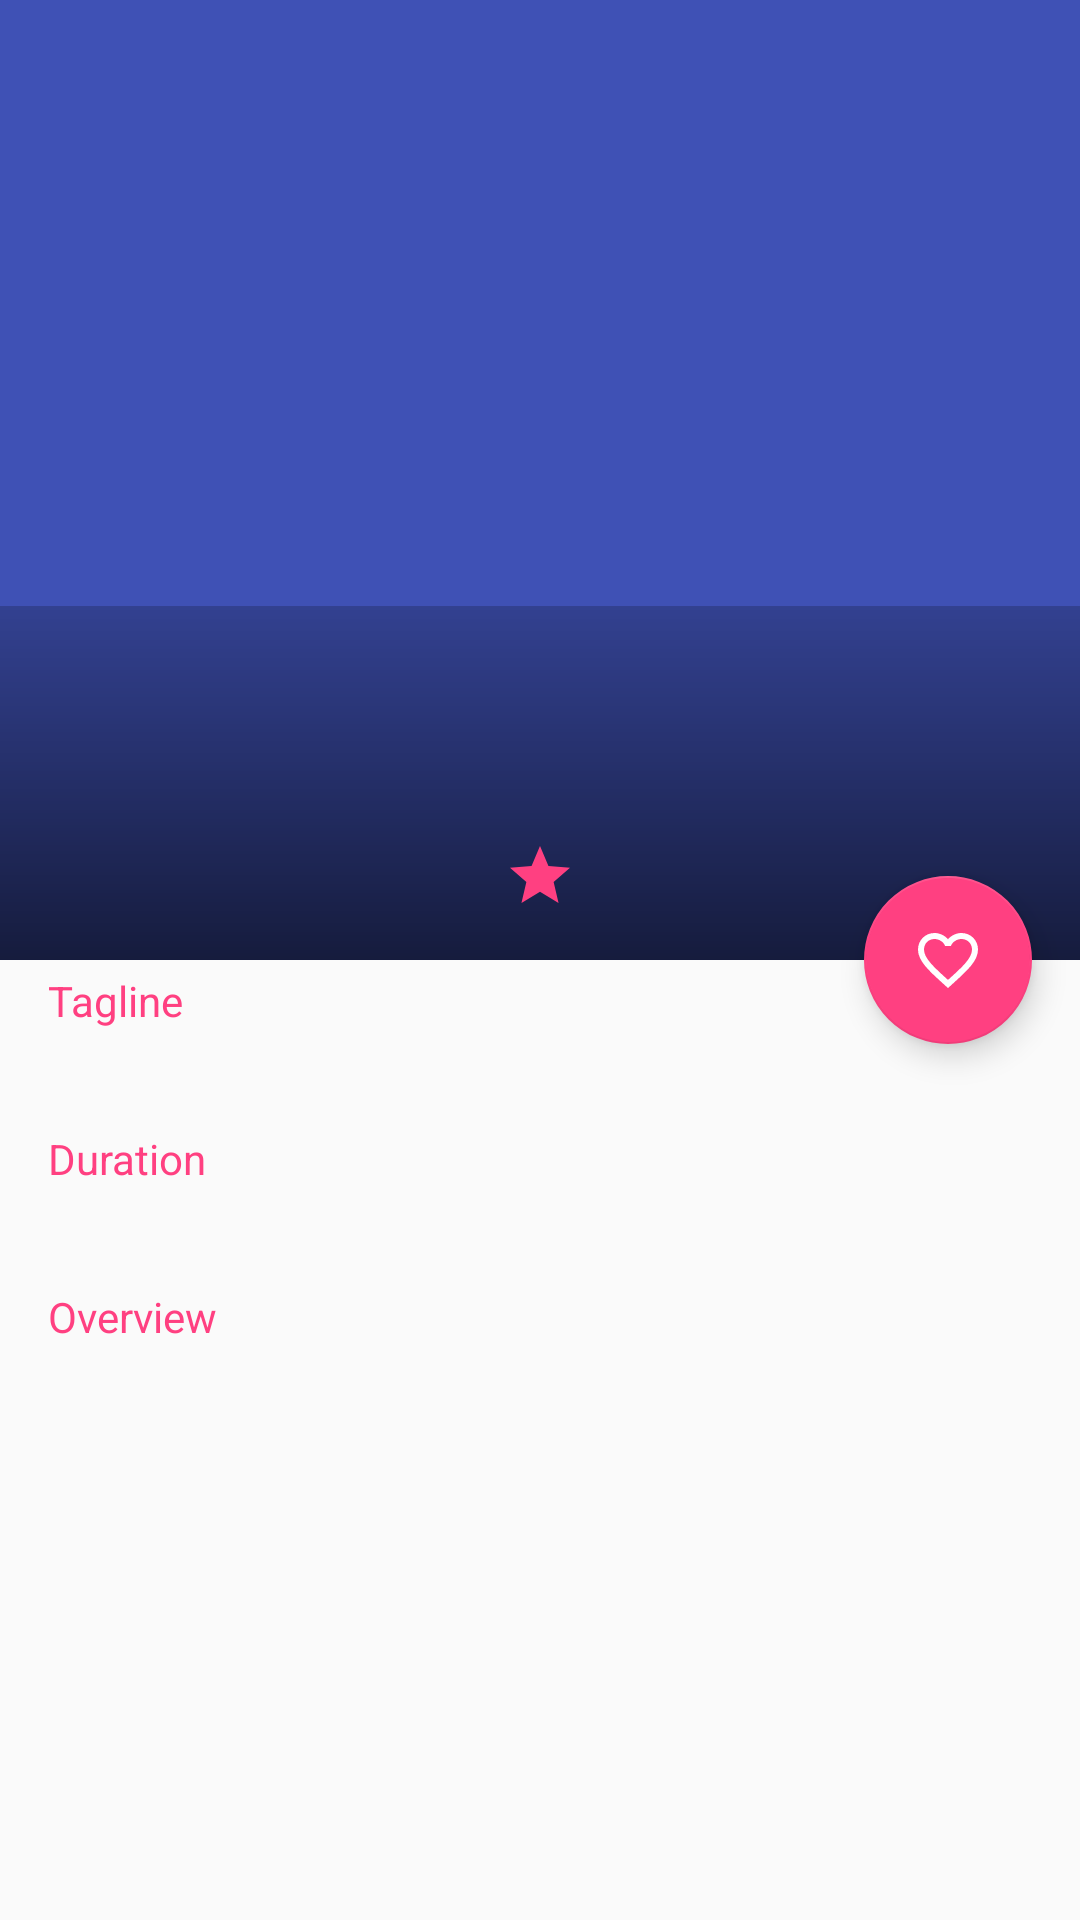

Screen size 1080px×1920px. Icon name, then its center in pixels as [x,y]:
favorite border: [948,960]
